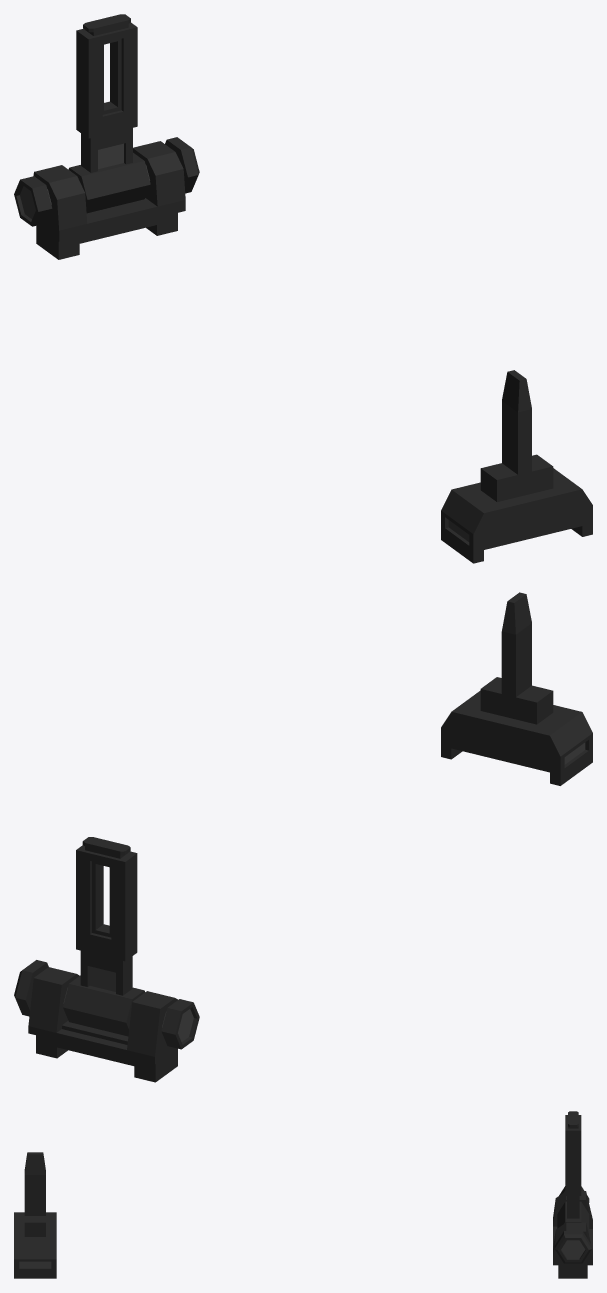
File: Optic_Recon_A.fbx
The picture shows the model from 3 angles, top to bottom: view 1: azimuth 30°, elevation 25°; view 2: azimuth 150°, elevation 25°; view 3: azimuth 270°, elevation 25°; orthographic projection. The views are drawn at different scales.
Visible parts, largest first — view 1: Optic_Recon_A_Back_Part, Optic_Recon_A_Forward, Optic_Recon_A_Back; view 2: Optic_Recon_A_Back_Part, Optic_Recon_A_Forward, Optic_Recon_A_Back; view 3: Optic_Recon_A_Forward, Optic_Recon_A_Back_Part, Optic_Recon_A_Back.
Boxes of the visible parts, box(x1,y1,x2,y2) form: Optic_Recon_A_Back_Part: box(14, 14, 199, 226); Optic_Recon_A_Forward: box(441, 370, 592, 563); Optic_Recon_A_Back: box(33, 141, 185, 259); Optic_Recon_A_Back_Part: box(14, 837, 199, 1049); Optic_Recon_A_Forward: box(441, 592, 592, 785); Optic_Recon_A_Back: box(28, 967, 177, 1082); Optic_Recon_A_Forward: box(14, 1152, 56, 1278); Optic_Recon_A_Back_Part: box(554, 1111, 591, 1263); Optic_Recon_A_Back: box(553, 1191, 592, 1278).
Size of the model in its own units: 0.0575 by 0.0733 by 0.2718.
